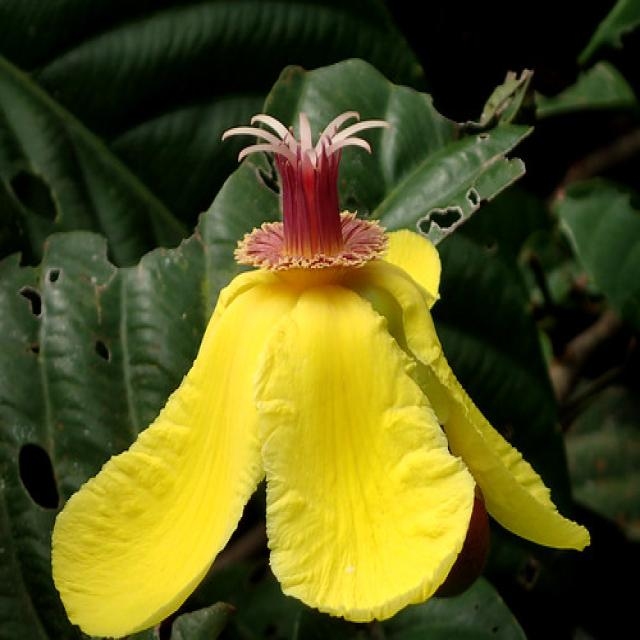Simpoh-Lak: (44, 104, 592, 638)
